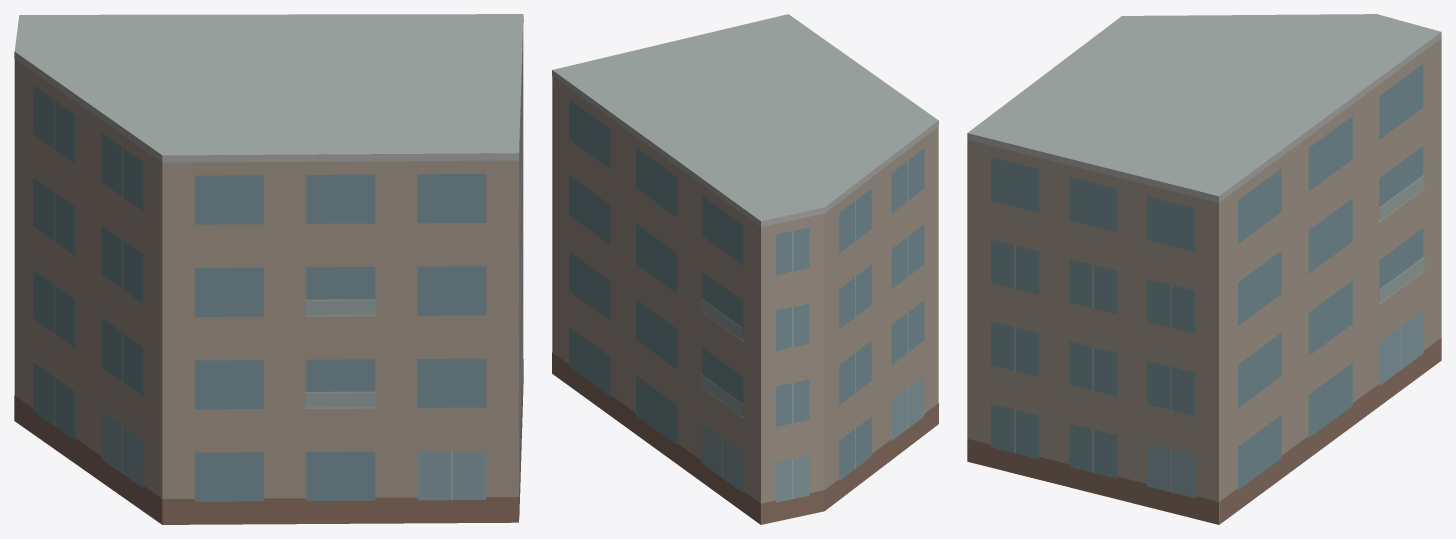
The model's file is survey-upis-32975098.glb.
3 renders of one model, left to right at view 1: azimuth 30°, elevation 25°; view 2: azimuth 150°, elevation 25°; view 3: azimuth 270°, elevation 25°, orthographic. The views are drawn at different scales.
Visible parts, largest first — view 1: survey-upis-32975098.tmp; view 2: survey-upis-32975098.tmp; view 3: survey-upis-32975098.tmp.
Part boxes in pixels (x1,y1,x2,y2): survey-upis-32975098.tmp: (14,14,523,524); survey-upis-32975098.tmp: (552,14,938,524); survey-upis-32975098.tmp: (967,14,1441,524).
Bounding box in the file's own units: 14.76 × 12.4 × 16.23.
